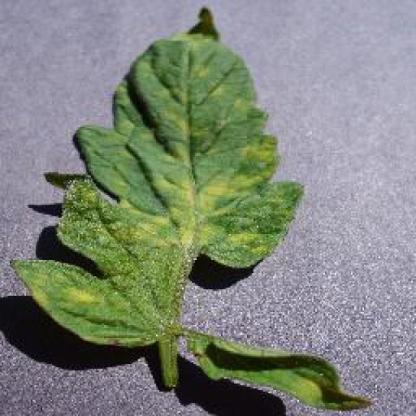Tomato_Leaf_Mold: (11, 8, 305, 347)
